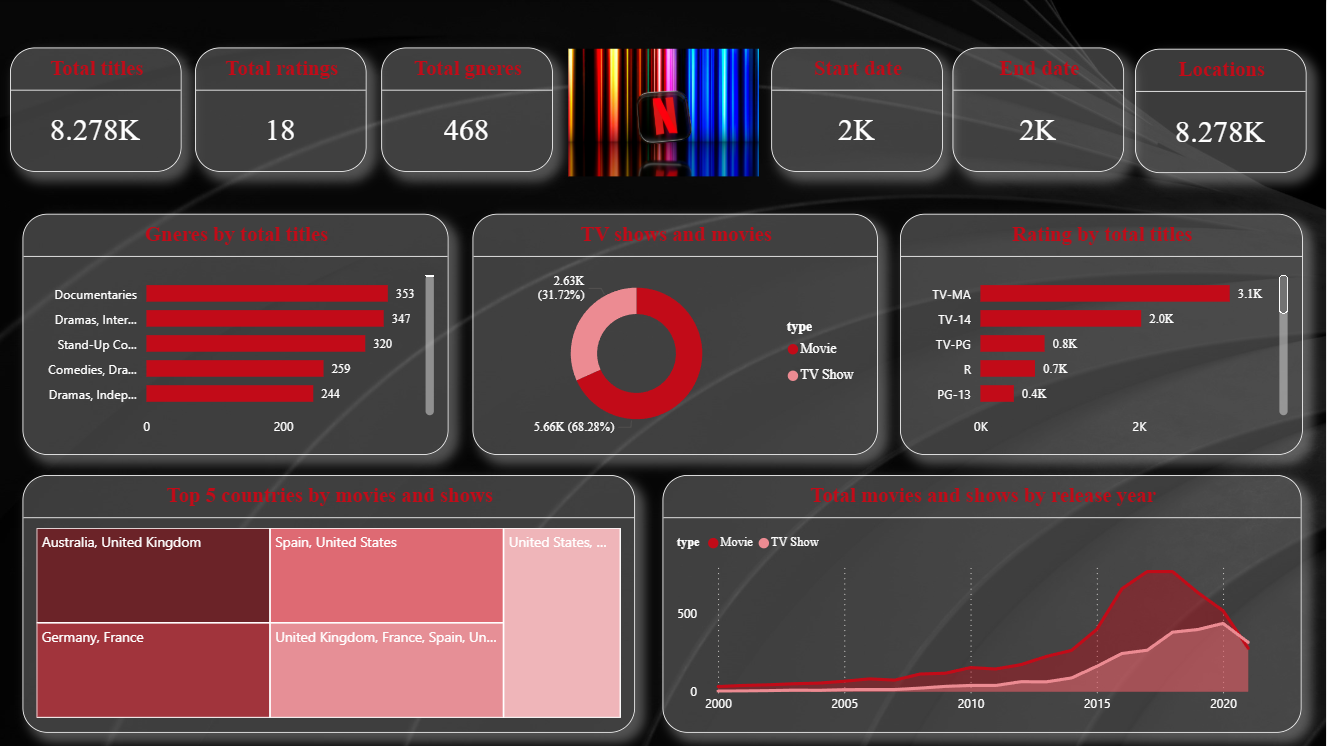

The page's visual inventory and layout, read from the dashboard file:
{"tool":"powerbi","page":{"name":"Page 1","canvas":[1280,720],"ordinal":0},"visuals":[{"type":"donutChart","title":"TV shows and movies","fields":{"Y":["CountNonNull(netflix_titles.show_id)"],"Category":["netflix_titles.type"]},"box":[455.7,205.7,391.4,232.9],"z":0},{"type":"barChart","title":"Rating by total titles","fields":{"Category":["netflix_titles.rating"],"Y":["CountNonNull(netflix_titles.show_id)"]},"box":[868.6,205.7,388.6,232.9],"z":1000},{"type":"clusteredBarChart","title":"Gneres by total titles","fields":{"Category":["netflix_titles.listed_in"],"Y":["CountNonNull(netflix_titles.show_id)"]},"box":[21.4,205.7,411.4,232.9],"z":2000},{"type":"areaChart","title":"Total movies and shows by release year","fields":{"Category":["netflix_titles.release_year"],"Y":["CountNonNull(netflix_titles.show_id)"],"Series":["netflix_titles.type"]},"box":[640,458.6,617.1,248.6],"z":3000},{"type":"treemap","title":"Top 5 countries by movies and shows","fields":{"Group":["netflix_titles.country"],"Values":["CountNonNull(netflix_titles.show_id)"]},"box":[21.4,458.6,591.4,248.6],"z":4000},{"type":"image","box":[543,47.1,195.7,122.9],"z":5000},{"type":"cardVisual","title":"Locations","fields":{"Data":["Count(netflix_titles.title)"]},"box":[1095.7,47.1,165.7,120],"z":6000},{"type":"cardVisual","title":"End date","fields":{"Data":["Min(netflix_titles.release_year)"]},"box":[919,45.7,165.7,120],"z":7000},{"type":"cardVisual","title":"Start date","fields":{"Data":["Max(netflix_titles.release_year)"]},"box":[744,45.7,165.7,120],"z":8000},{"type":"cardVisual","title":"Total gneres","fields":{"Data":["Count(netflix_titles.listed_in)"]},"box":[368,45.7,165.7,120],"z":9000},{"type":"cardVisual","title":"Total ratings","fields":{"Data":["Count(netflix_titles.rating)"]},"box":[188.6,45.7,165.7,120],"z":10000},{"type":"cardVisual","title":"Total titles","fields":{"Data":["Count(netflix_titles.title)"]},"box":[10,45.7,165.7,120],"z":11000}]}

Visuals, with their boxes in screenshot pixels (x1, y1, x2, y2), scaled from the page's 1280x720 canvas onto the 1327x746 screenshot:
"TV shows and movies" donutChart: bbox(472, 213, 878, 454)
"Rating by total titles" barChart: bbox(900, 213, 1303, 454)
"Gneres by total titles" clusteredBarChart: bbox(22, 213, 449, 454)
"Total movies and shows by release year" areaChart: bbox(664, 475, 1303, 733)
"Top 5 countries by movies and shows" treemap: bbox(22, 475, 635, 733)
image: bbox(563, 49, 766, 176)
"Locations" cardVisual: bbox(1136, 49, 1308, 173)
"End date" cardVisual: bbox(953, 47, 1125, 172)
"Start date" cardVisual: bbox(771, 47, 943, 172)
"Total gneres" cardVisual: bbox(382, 47, 553, 172)
"Total ratings" cardVisual: bbox(196, 47, 367, 172)
"Total titles" cardVisual: bbox(10, 47, 182, 172)
